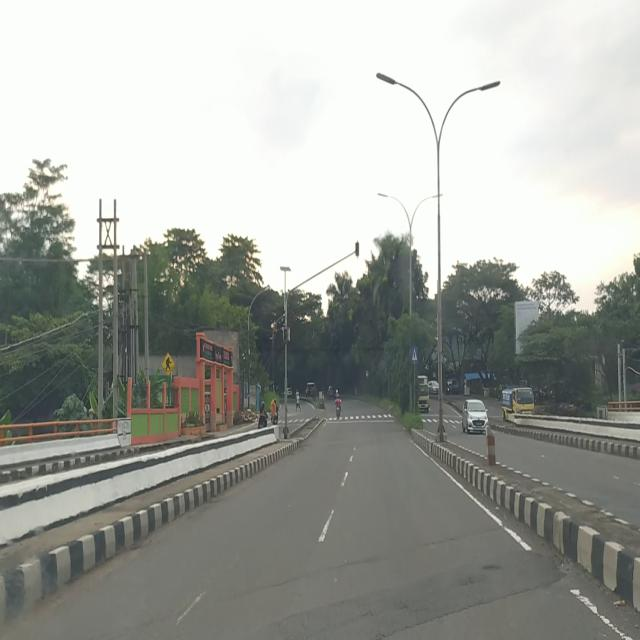Sewer Cover: (245, 527, 499, 595)
